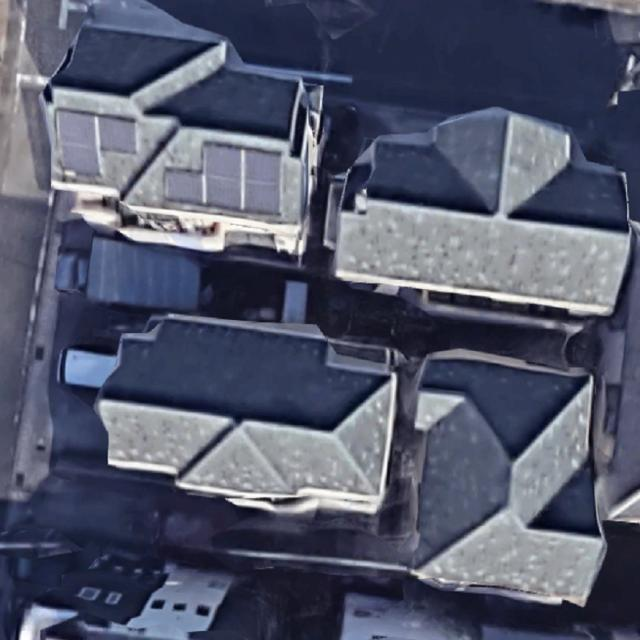Batiment: (44, 3, 322, 255), (335, 108, 630, 314), (98, 316, 396, 512), (412, 351, 605, 604)
